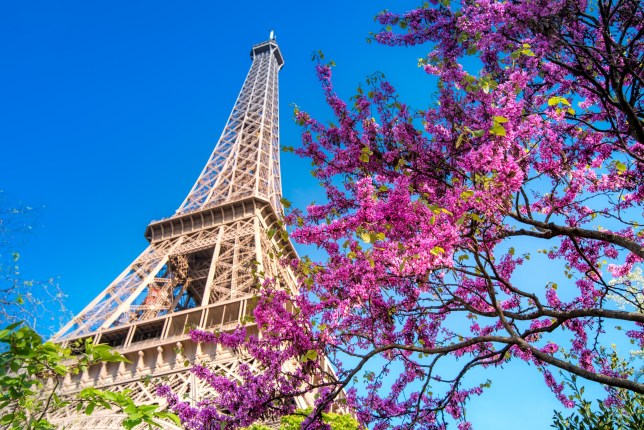eiffel tower: (66, 12, 334, 405)
